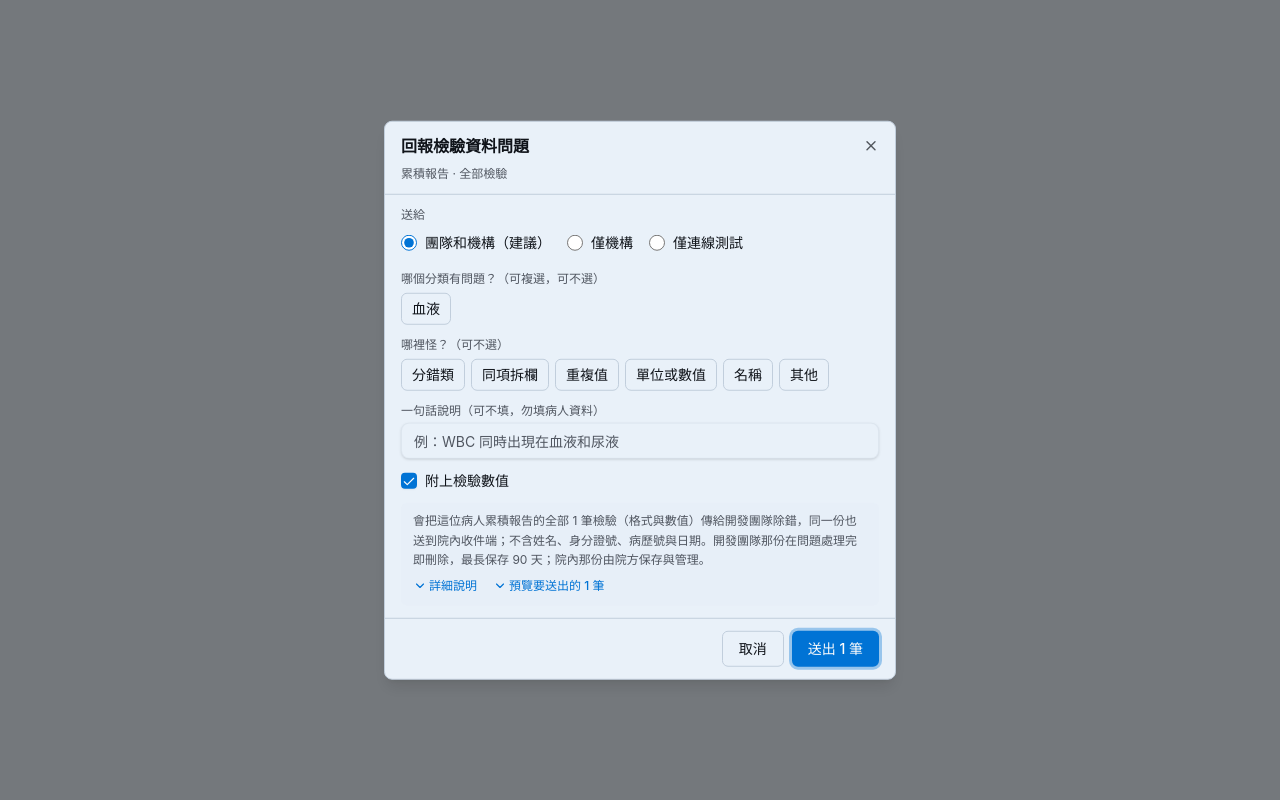
Test case: LabDataReportDialog — 送給 on ?site=vghtpe › 僅連線測試 › says why a destination failed
The width and height of the screenshot is (1280, 800).
Click the radio button labelled "僅連線測試" at (657, 243), box [649,235,665,251]
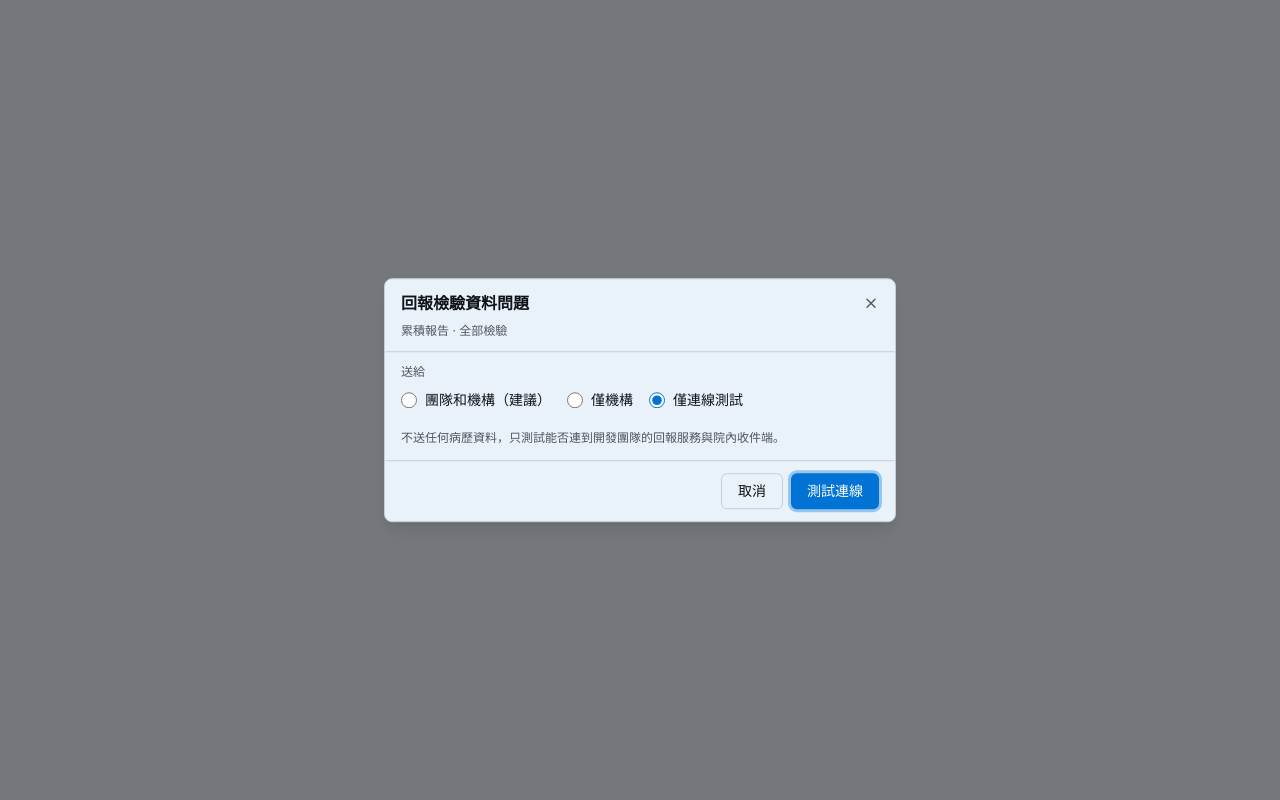
Click the button "測試連線" at (835, 491), box [791,473,879,509]
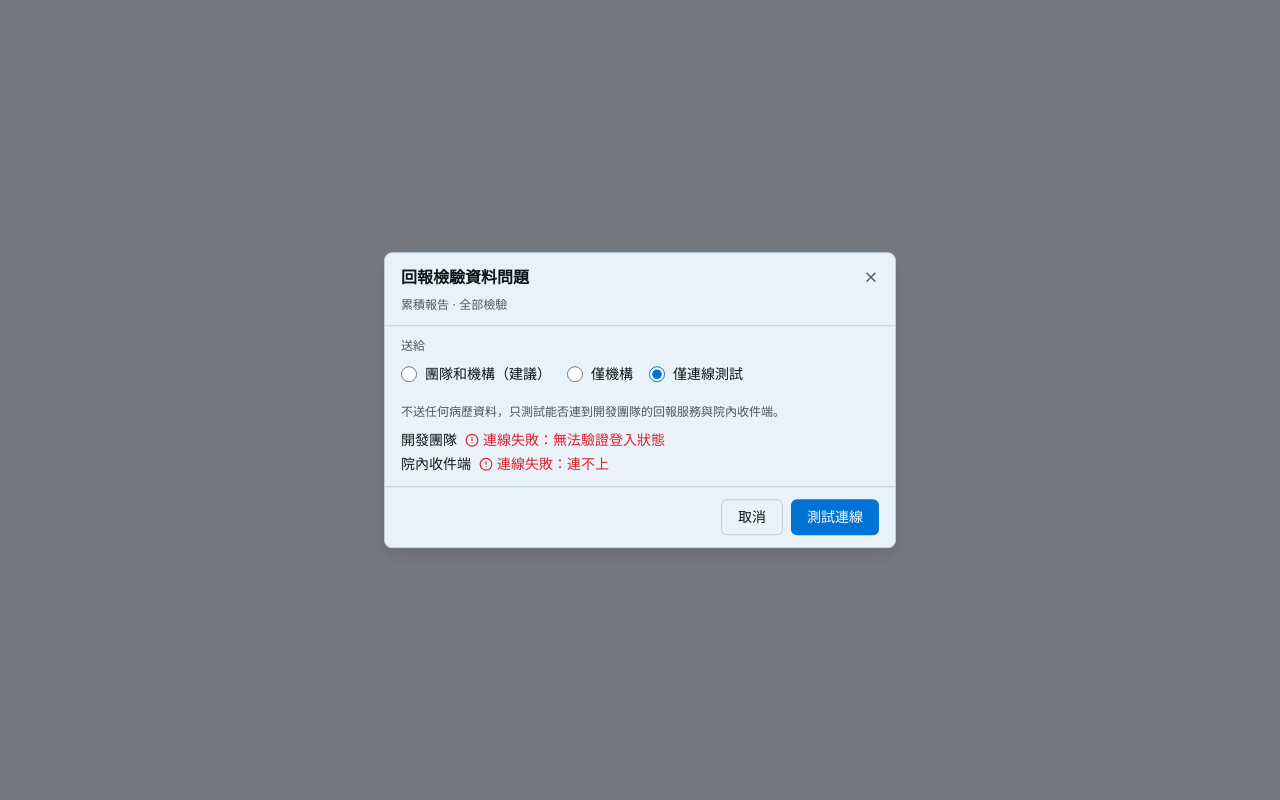
Expected: the list item "開發團隊" shows "連線失敗：無法驗證登入狀態", [483,431,665,448]
Expected: the list item "院內收件端" shows "連線失敗：連不上", [497,455,609,472]
